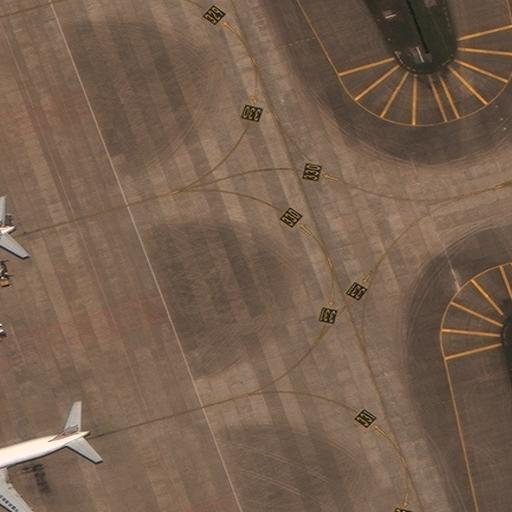Large Civil Transport: (0, 370, 88, 511)
